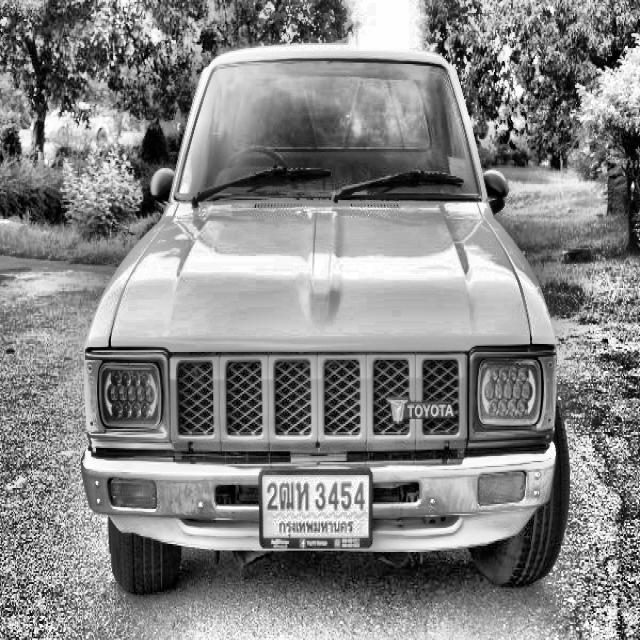license-plate: (258, 462, 374, 554)
